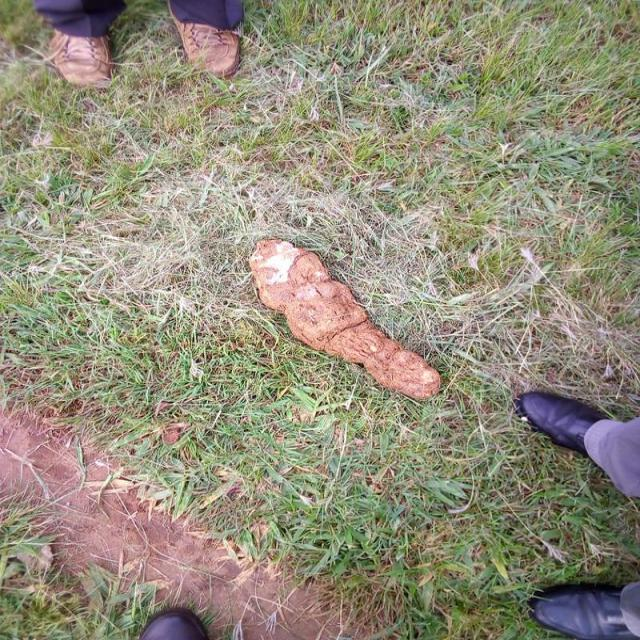cassava leaf: (248, 236, 441, 401)
